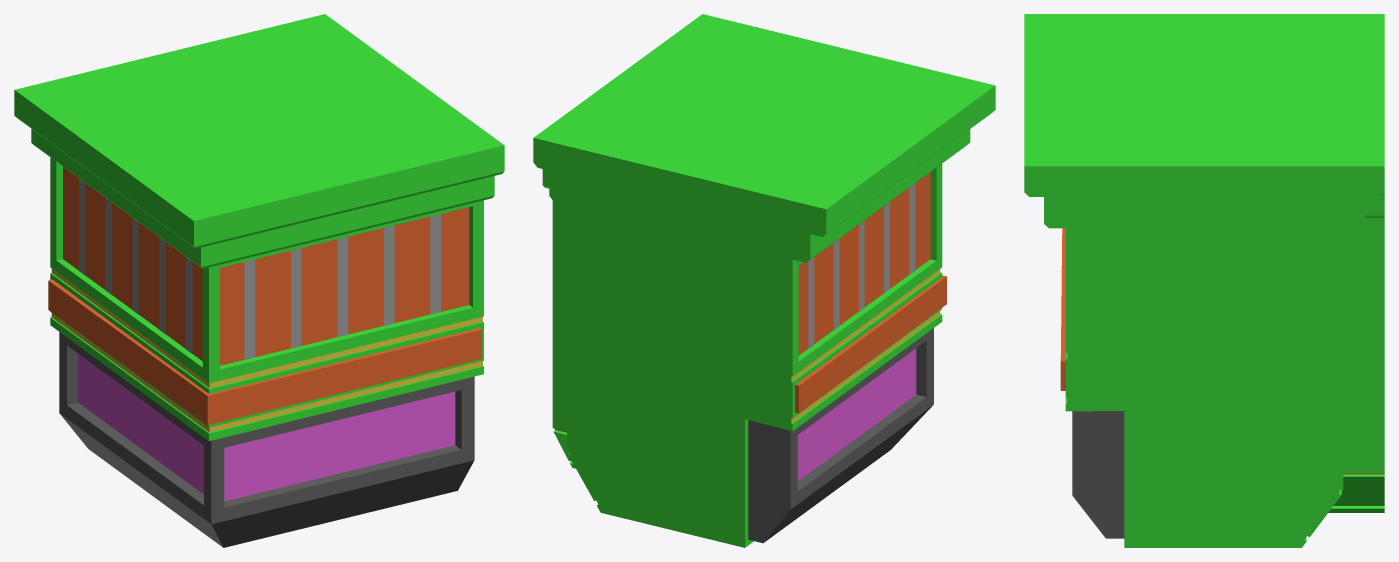
The model's file is Bar_Ceiling_01_Corner_A.fbx.
3 renders of one model, left to right at view 1: azimuth 30°, elevation 25°; view 2: azimuth 150°, elevation 25°; view 3: azimuth 270°, elevation 25°, orthographic. The views are drawn at different scales.
Visible parts, largest first — view 1: Bar_Ceiling_01_Corner_A; view 2: Bar_Ceiling_01_Corner_A; view 3: Bar_Ceiling_01_Corner_A.
Boxes of the visible parts, bbox=[...] form: Bar_Ceiling_01_Corner_A: bbox=[14, 14, 504, 547]; Bar_Ceiling_01_Corner_A: bbox=[533, 14, 995, 547]; Bar_Ceiling_01_Corner_A: bbox=[1024, 14, 1384, 547].
Size of the model in its own units: 91.44 by 107 by 91.44.
